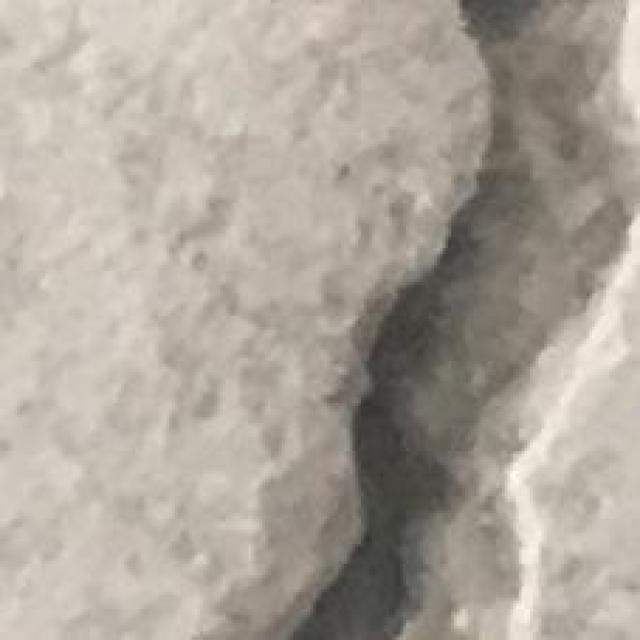Crack: (268, 3, 637, 640)
